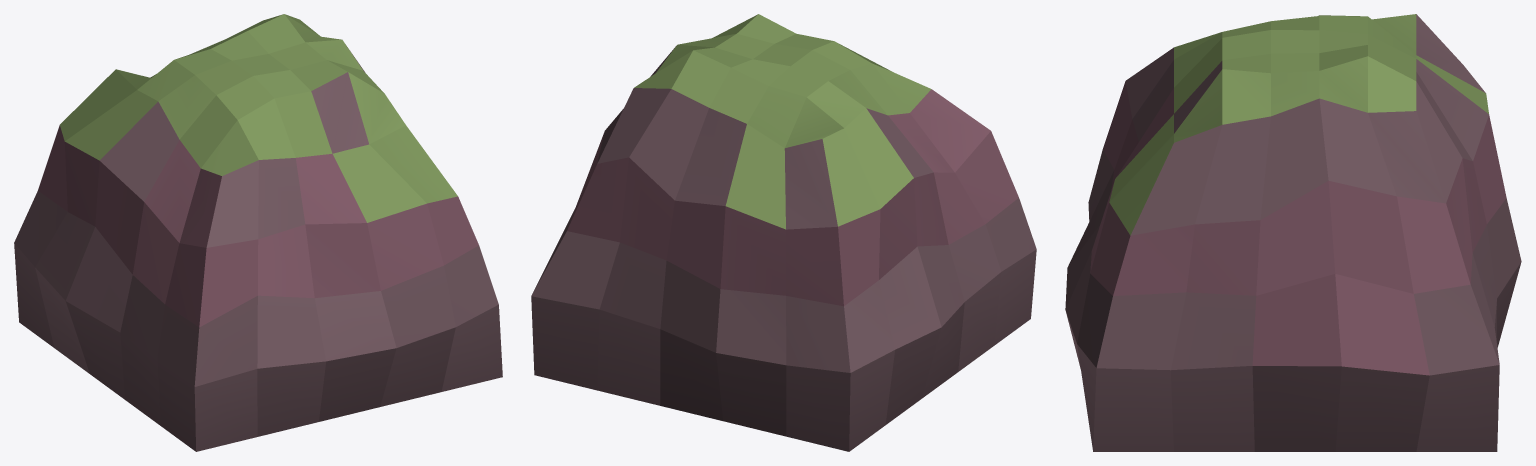
The model's file is roca_suelta_3.glb.
The picture shows the model from 3 angles, left to right: view 1: azimuth 30°, elevation 25°; view 2: azimuth 150°, elevation 25°; view 3: azimuth 270°, elevation 25°; orthographic projection. The views are drawn at different scales.
Visible parts, largest first — view 1: propforge-cuartos-roca_suelta; view 2: propforge-cuartos-roca_suelta; view 3: propforge-cuartos-roca_suelta.
Boxes of the visible parts, <box> form: propforge-cuartos-roca_suelta: <box>14,14,502,451</box>; propforge-cuartos-roca_suelta: <box>531,14,1036,451</box>; propforge-cuartos-roca_suelta: <box>1065,14,1521,451</box>.
Bounding box in the file's own units: 0.9181 × 0.7452 × 0.9031.
